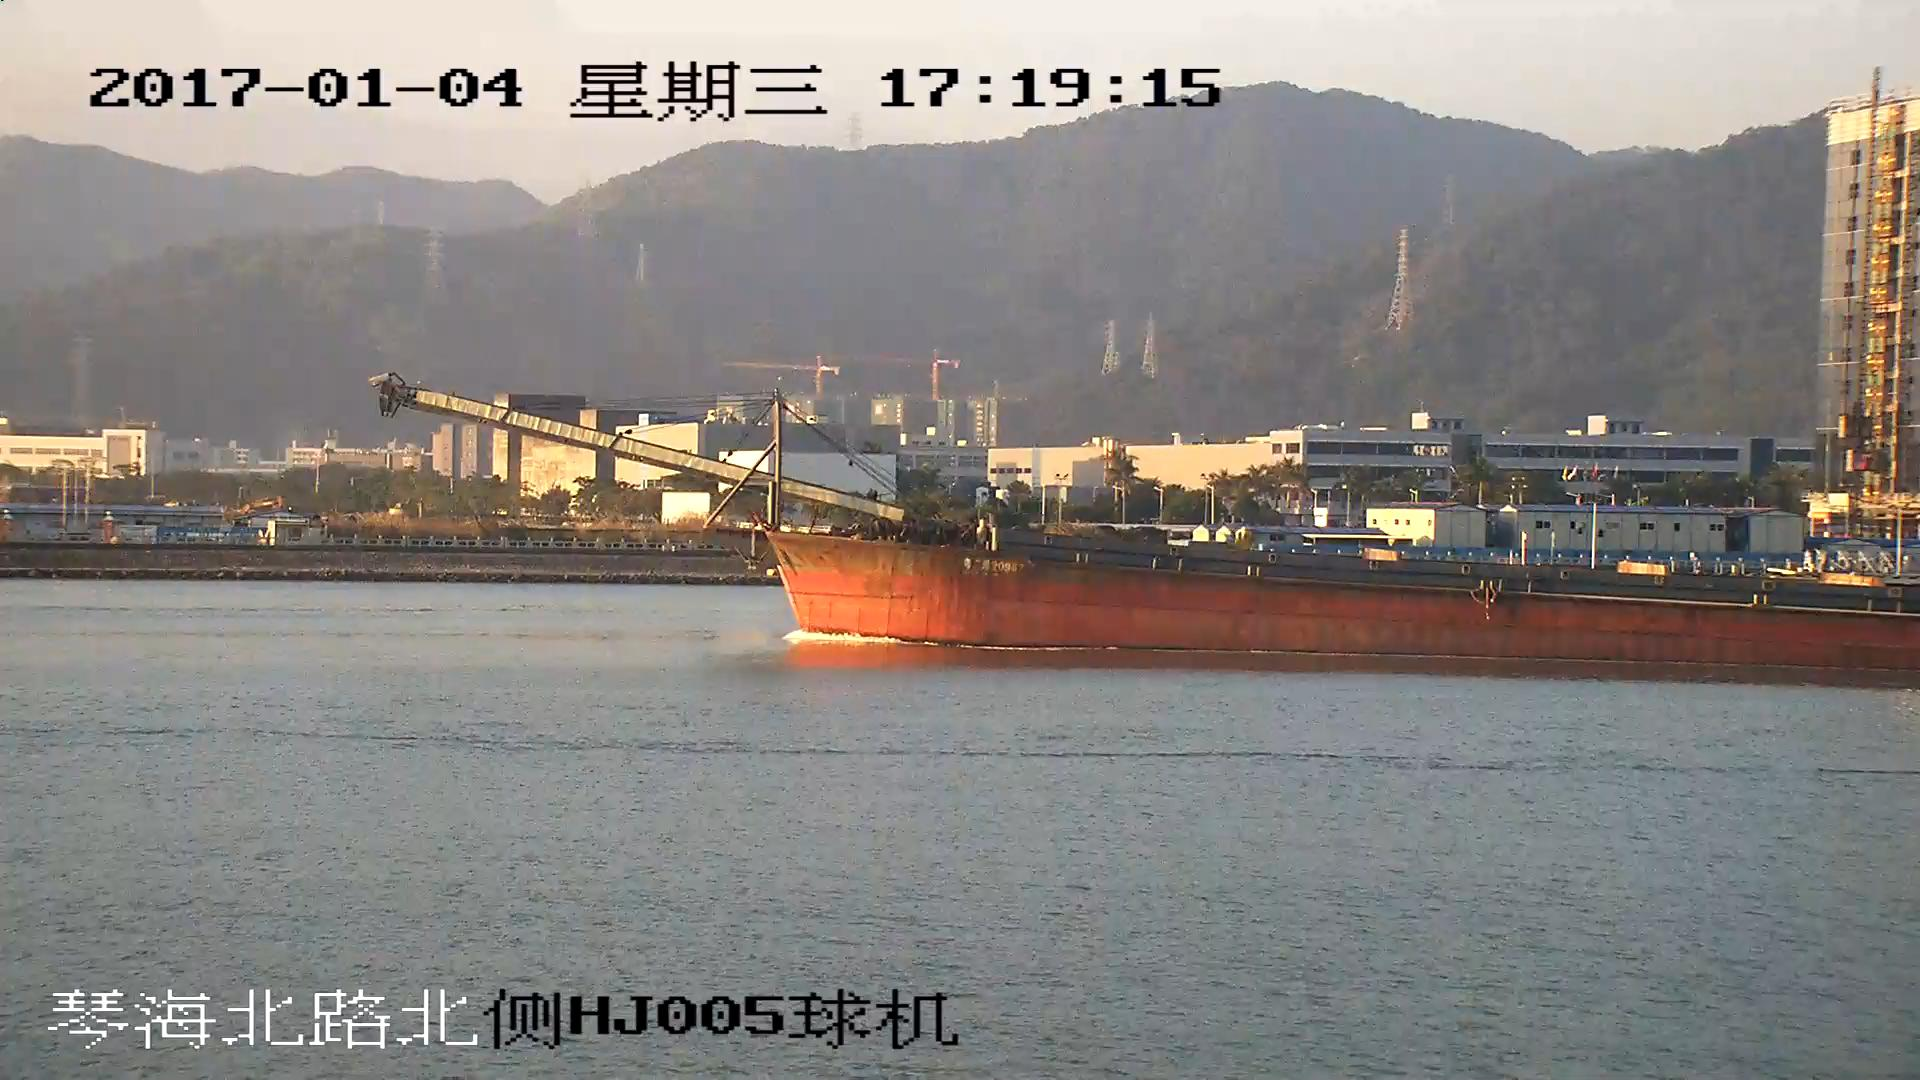bulk cargo carrier: (381, 373, 1920, 669)
